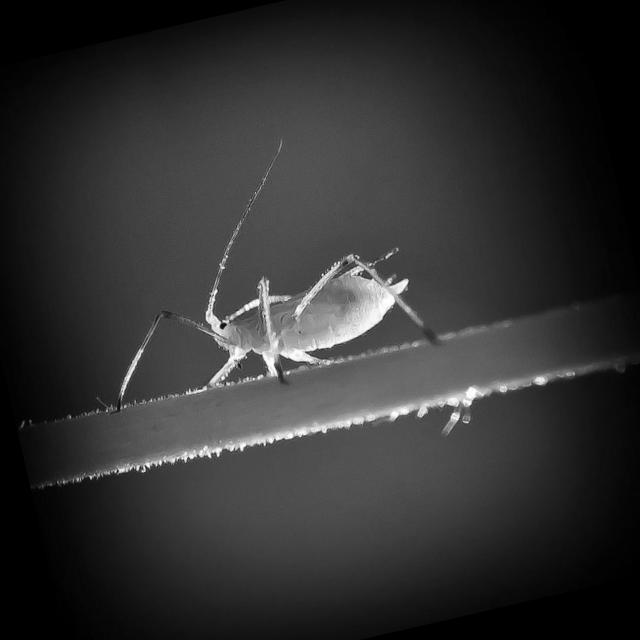Aphids: (93, 146, 486, 448)
